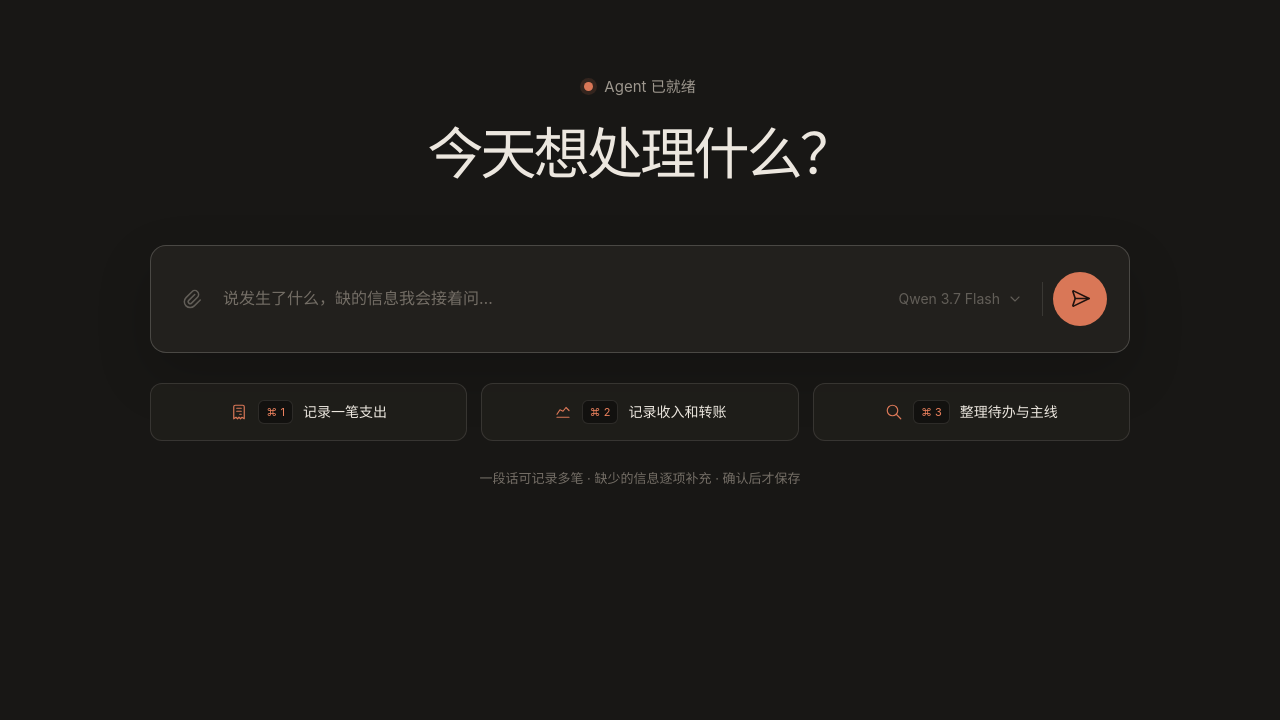
Test: updates one current preview across a short account answer
Type "午饭花了20" into the text box named "给 Agent 发消息" at {"x": 550, "y": 299}, box [221,284,880,314]
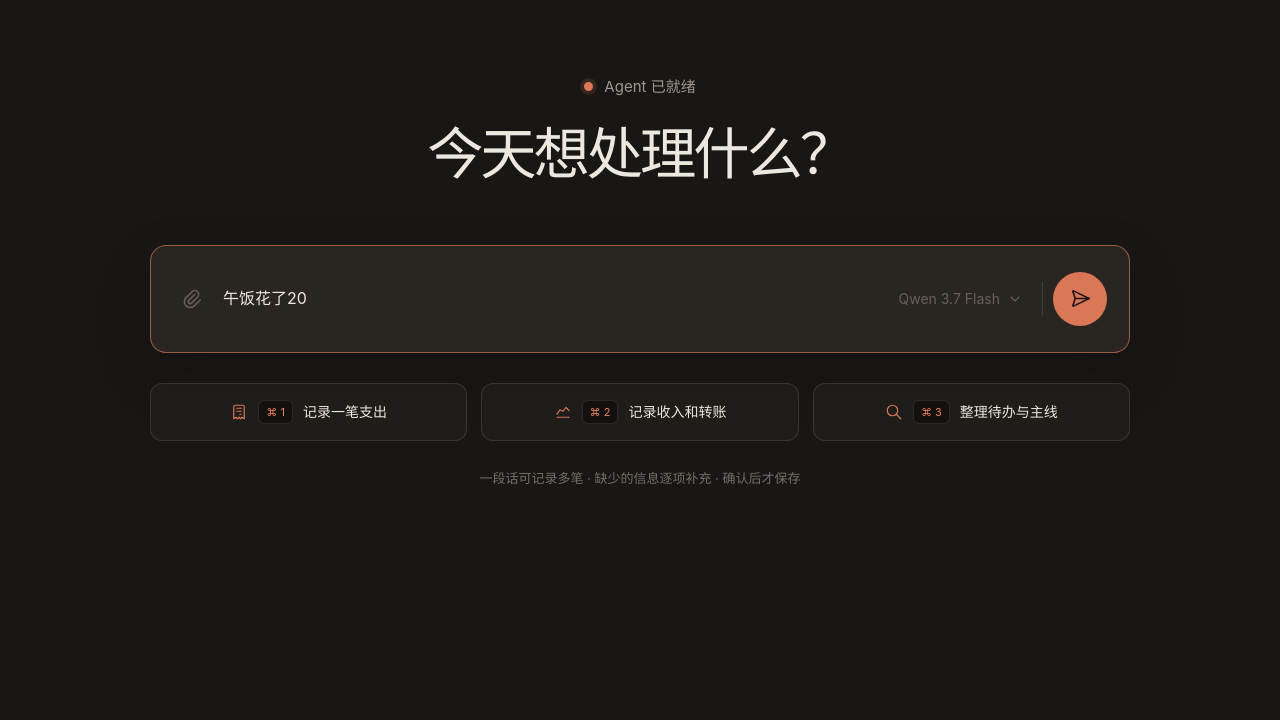
Click the button named "发送消息" at {"x": 1080, "y": 299}, box [1053,272,1107,326]
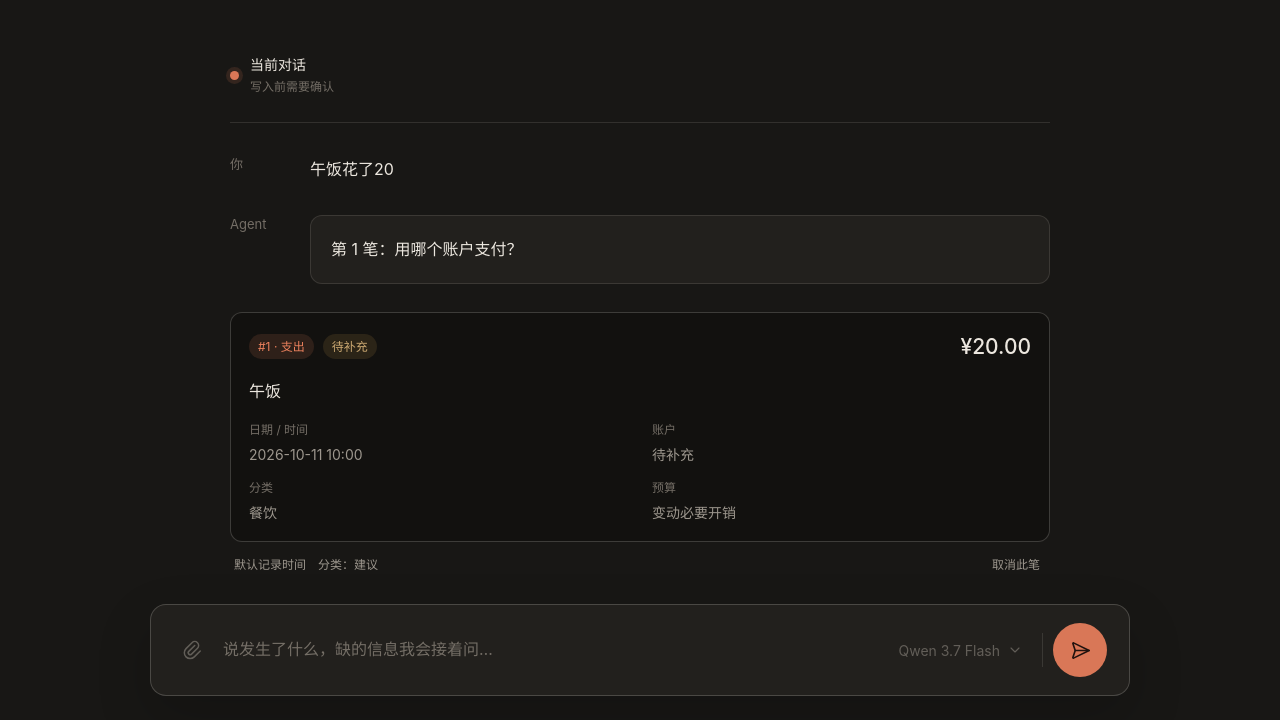
Result: the button "情侣小荷包" is shown at [319,662,429,706]
Type "情侣小荷包" into the text box named "给 Agent 发消息" at {"x": 550, "y": 650}, box [221,635,880,665]
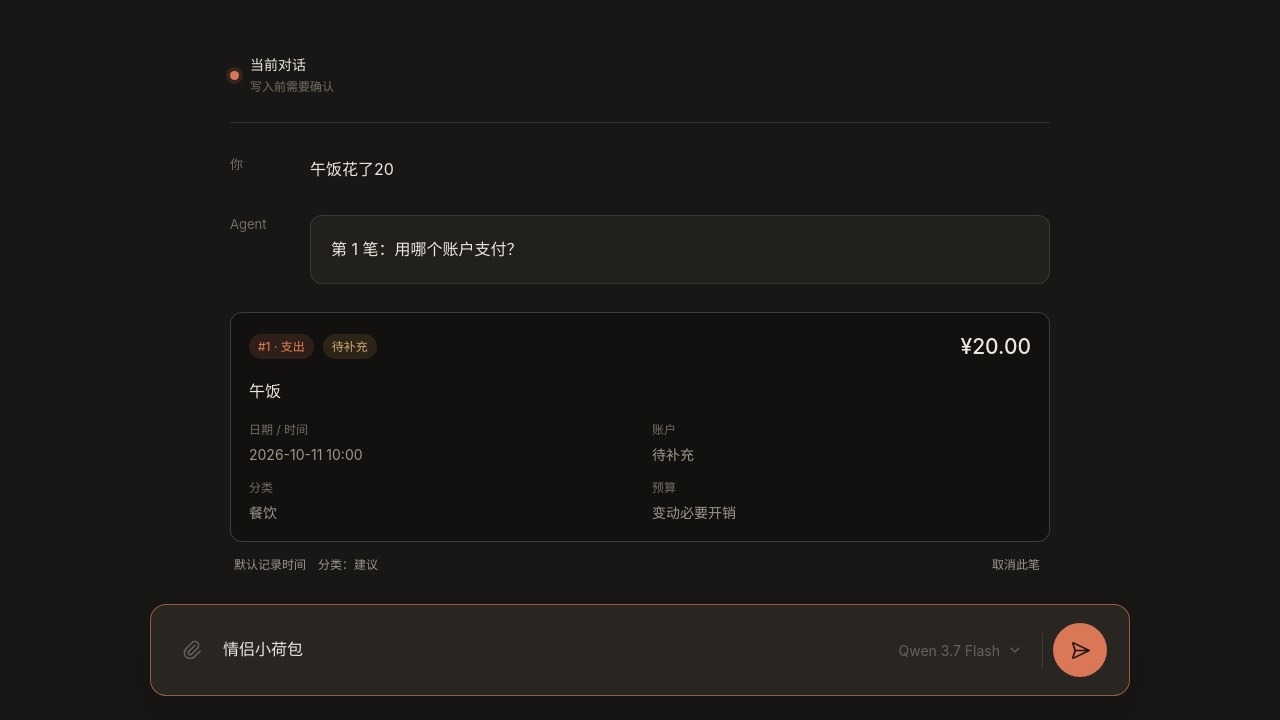
Click the button named "发送消息" at {"x": 1080, "y": 650}, box [1053,623,1107,677]
(page scrolled)
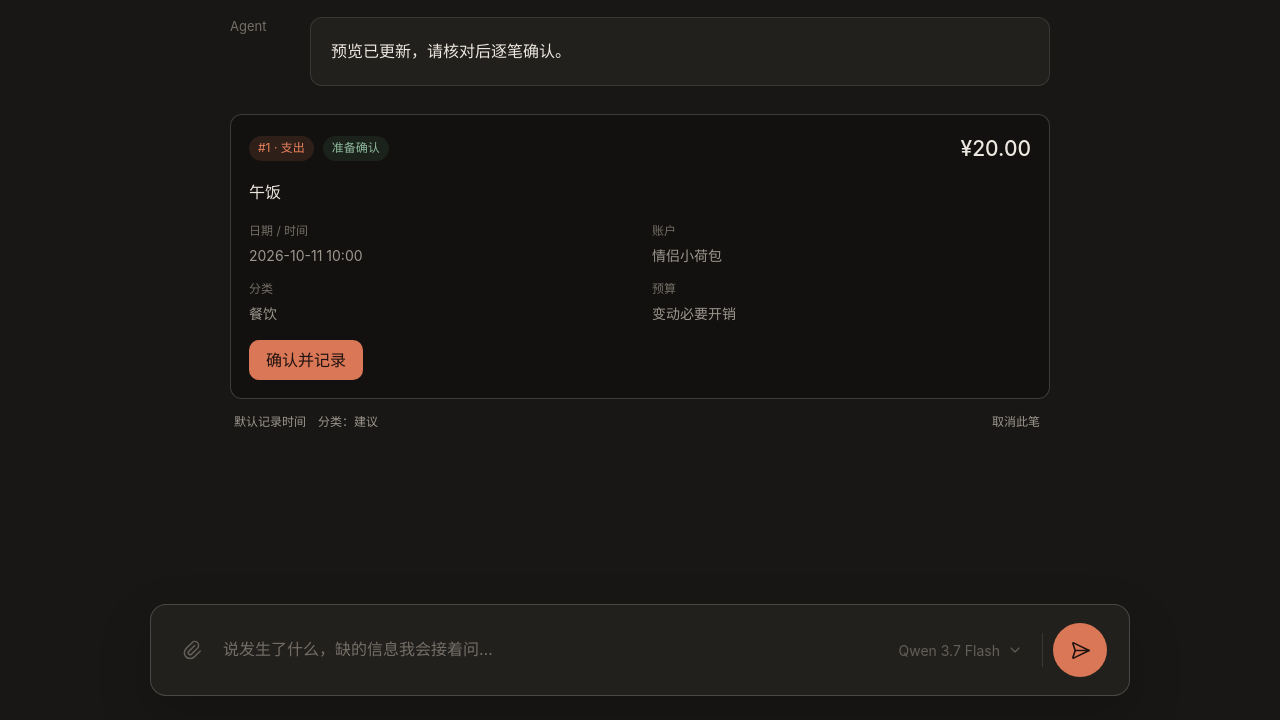
Result: the number of elements named "交易预览" is 1 at [230,114,1050,399]
Result: the button "¥20.00" is shown at [960,133,1031,164]
Result: the button "情侣小荷包" is shown at [652,245,722,266]
